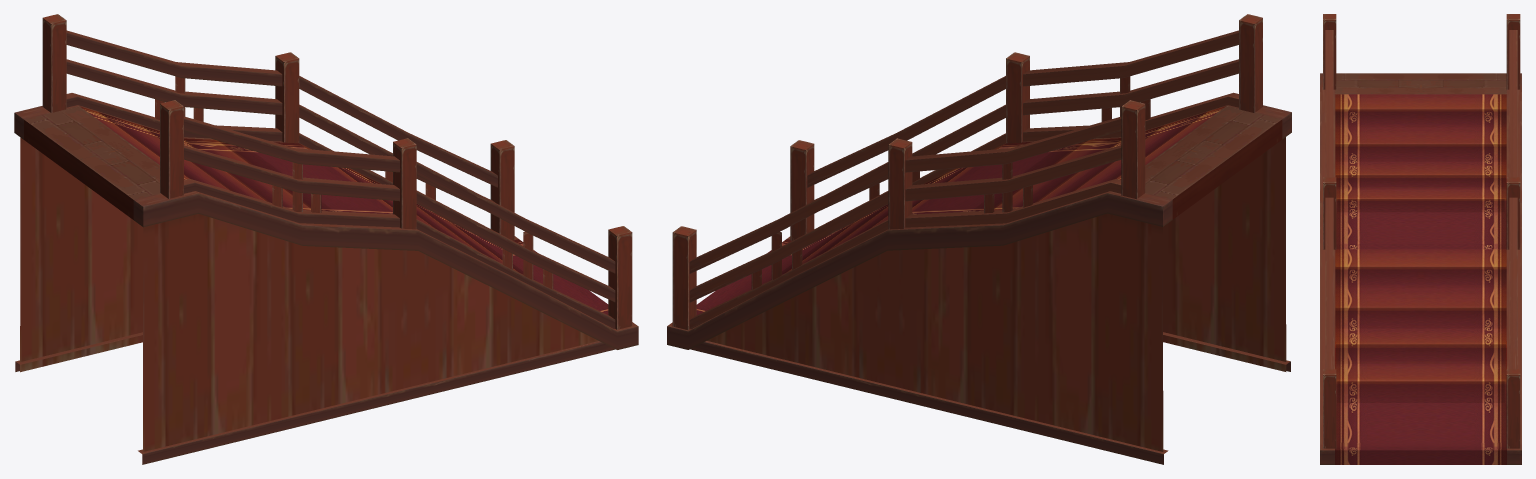
Rendered from ZYbui_CLF_louti01.FBX.
3 renders of one model, left to right at view 1: azimuth 30°, elevation 25°; view 2: azimuth 150°, elevation 25°; view 3: azimuth 270°, elevation 25°, orthographic. The views are drawn at different scales.
Parts seen in each view (by area): view 1: ZYbui_CLF_louti01; view 2: ZYbui_CLF_louti01; view 3: ZYbui_CLF_louti01.
Boxes of the visible parts, x1=… form: ZYbui_CLF_louti01: x1=14, y1=14, x2=638, y2=464; ZYbui_CLF_louti01: x1=667, y1=14, x2=1291, y2=464; ZYbui_CLF_louti01: x1=1320, y1=14, x2=1521, y2=464.
Size of the model in its own units: 467 by 314 by 211.
